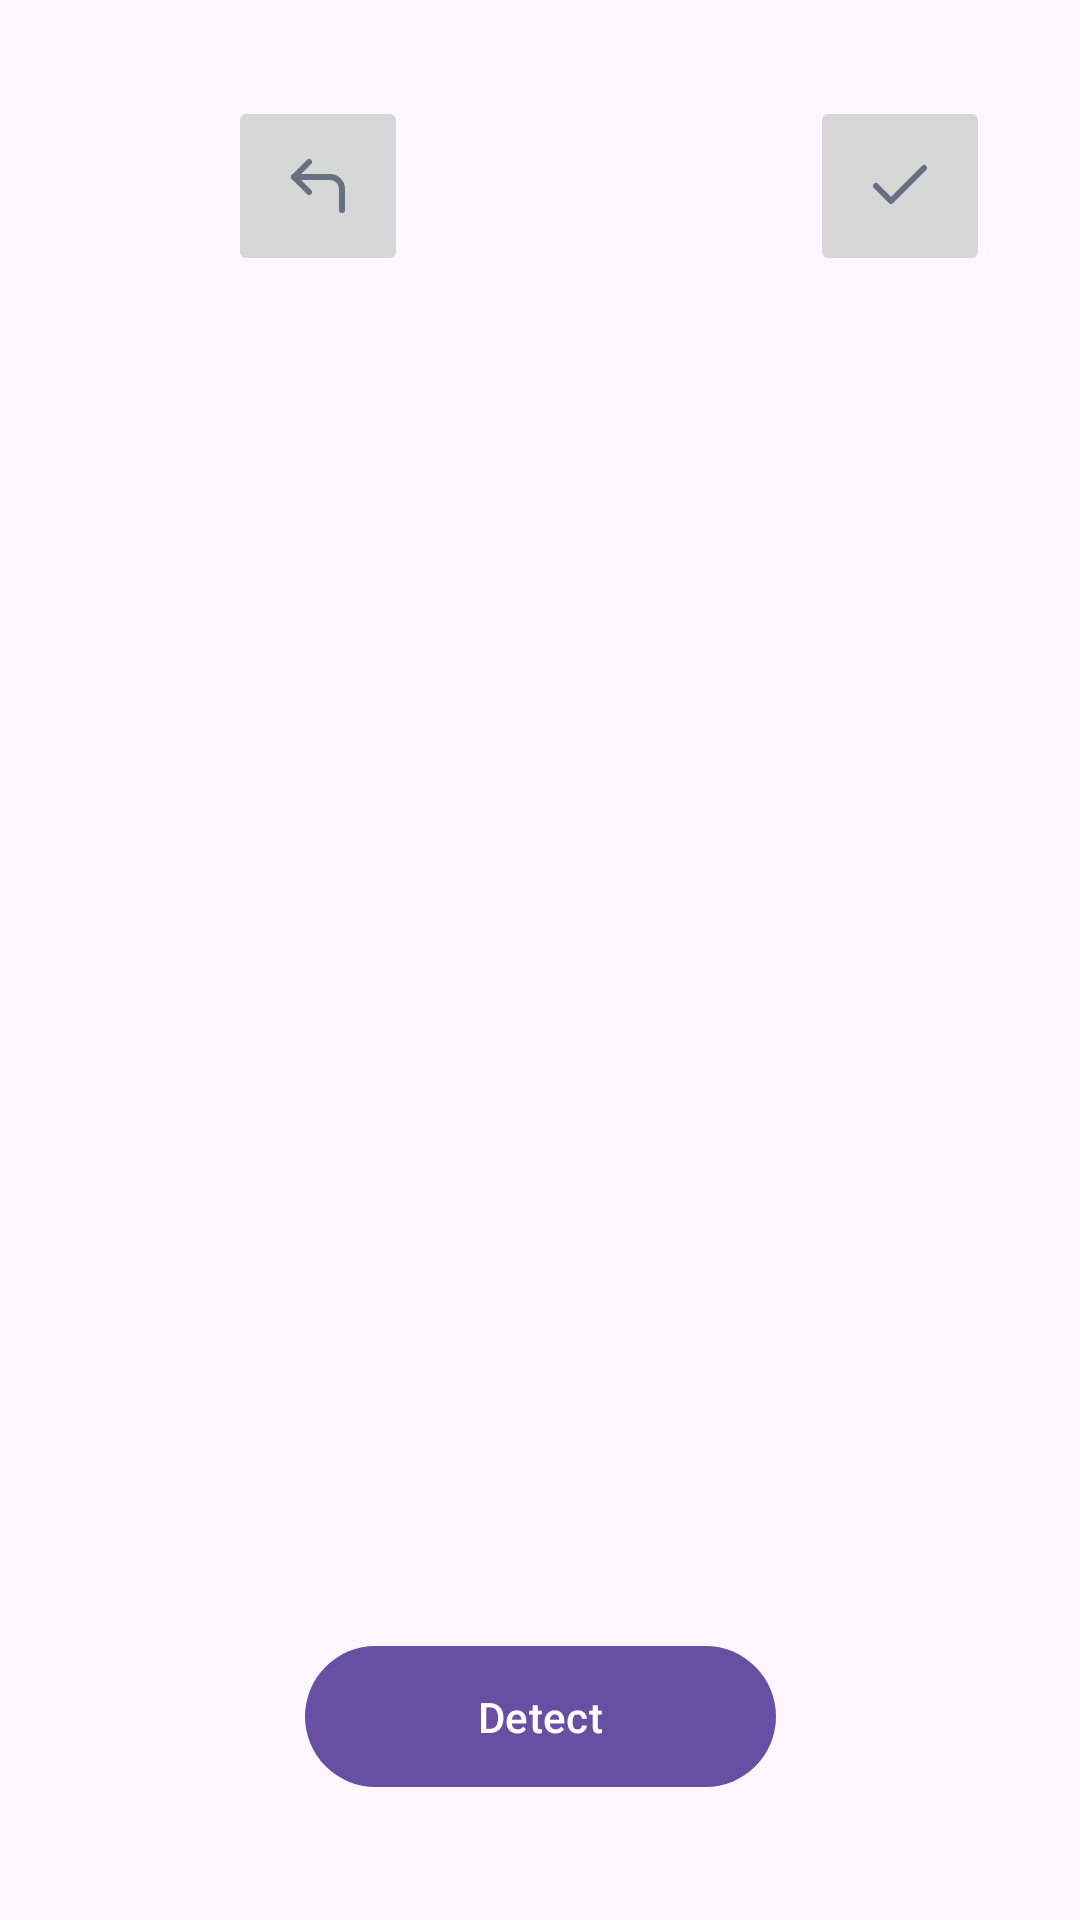

Named icons in this screenshot (1080×1920) and their centers, (x,y):
check: (900,186)
corner up left: (318,186)
